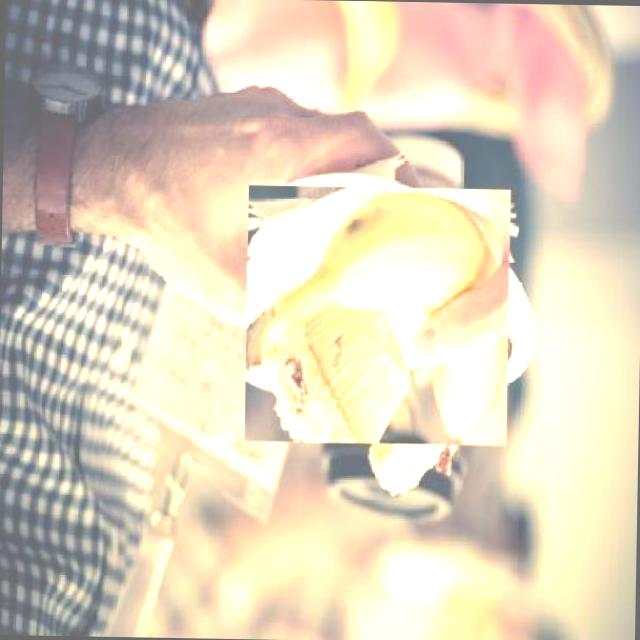Banana: (244, 184, 510, 446)
